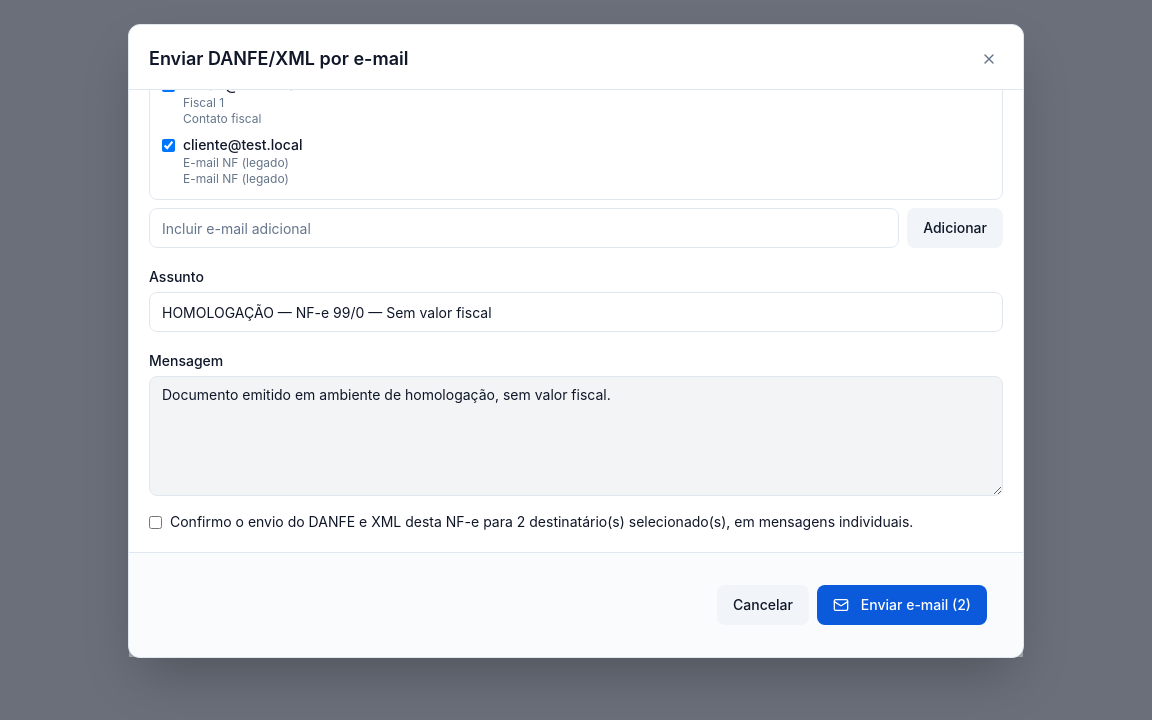
Scenario: NFeEnvioDanfeXmlModal multi-destinatários › apresenta sucessos e falhas na resposta parcial
The width and height of the screenshot is (1152, 720).
(page scrolled)
Click the checkbox labelled "Confirmo o envio".
click(156, 522)  # box [149,516,162,529]
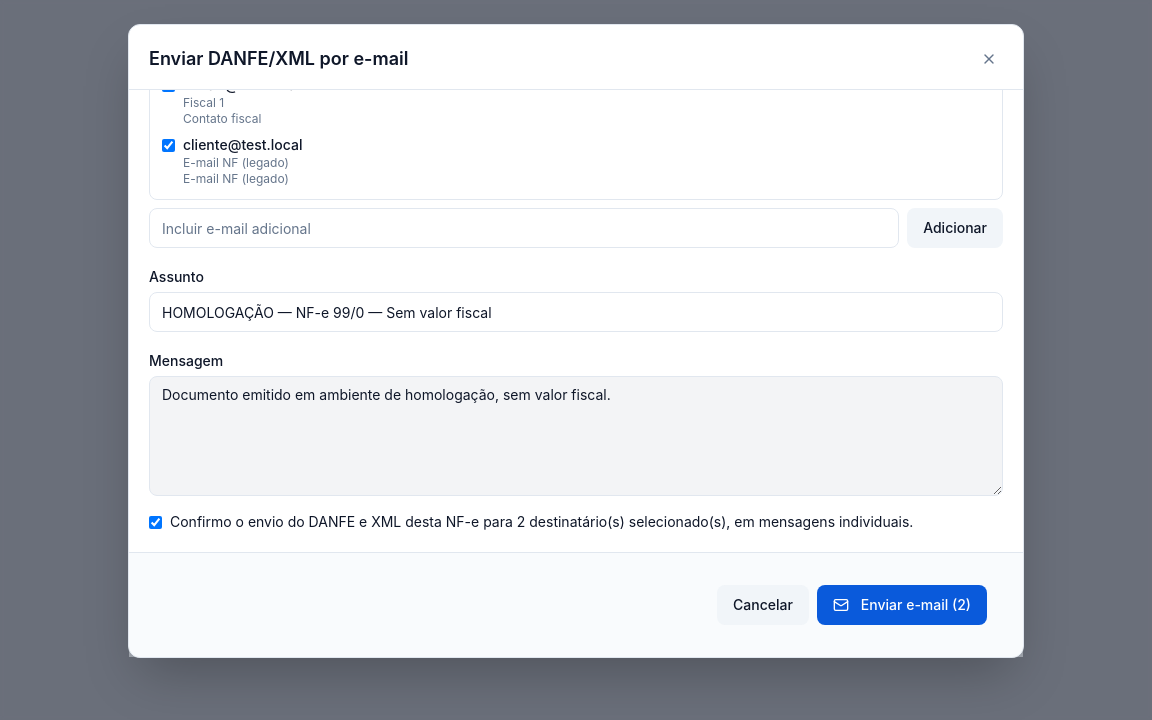
Click the button "Enviar e-mail (2)".
click(902, 605)  # box [817,585,987,625]
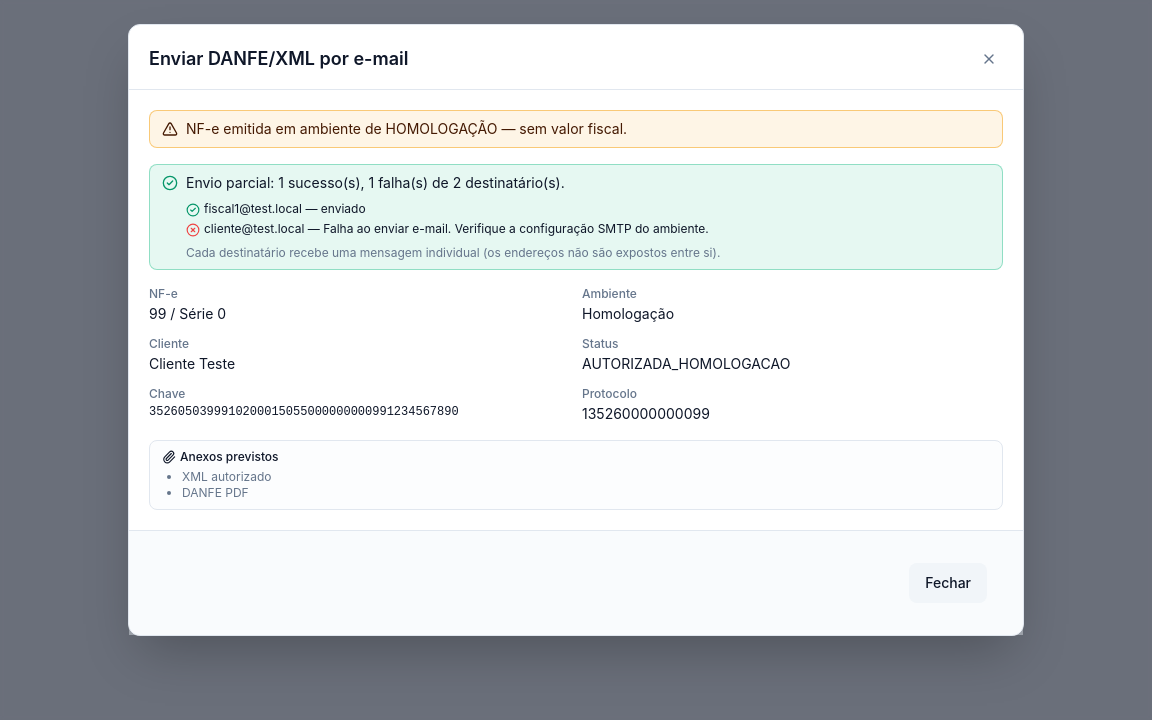
Expected: the list with test id "envio-resultados" is shown, [186,201,709,237]
Expected: the text "Envio parcial" is shown, [186,174,565,191]
Expected: the text "cliente@test.local" is shown, [204,221,304,236]
